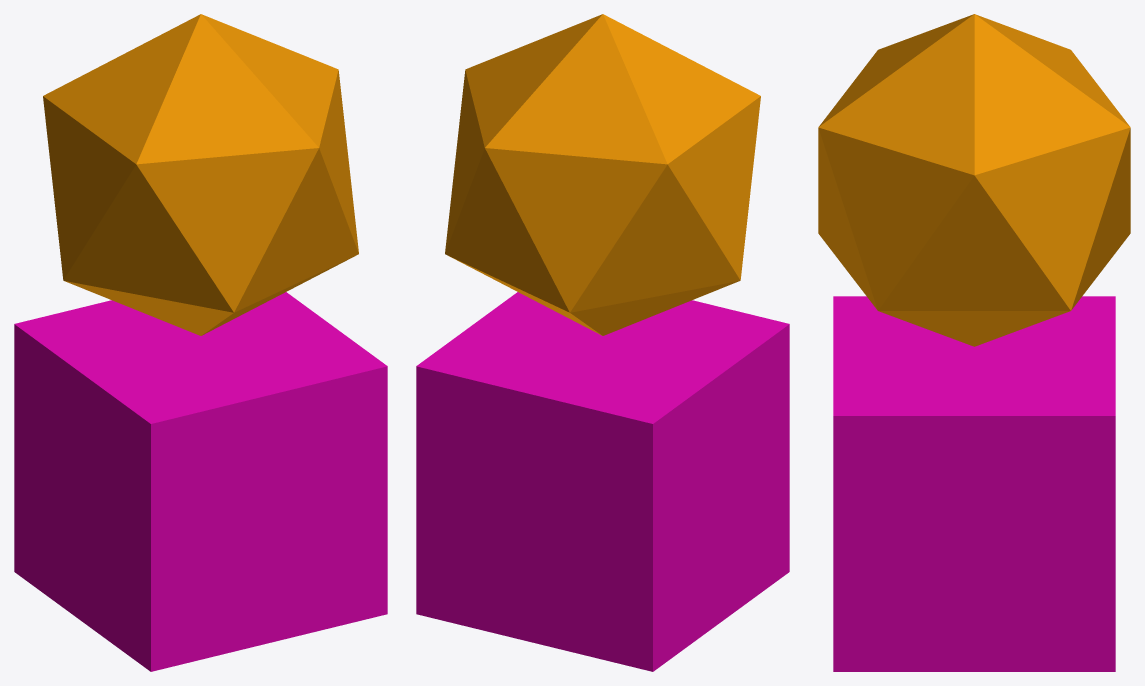
Rendered from vendor.glb.
The picture shows the model from 3 angles, left to right: view 1: azimuth 30°, elevation 25°; view 2: azimuth 150°, elevation 25°; view 3: azimuth 270°, elevation 25°; orthographic projection. The views are drawn at different scales.
Visible parts, largest first — view 1: Cube, Icosphere; view 2: Cube, Icosphere; view 3: Cube, Icosphere.
Part boxes in pixels (bbox=[...]): Cube: bbox=[14, 292, 387, 671]; Icosphere: bbox=[43, 14, 358, 335]; Cube: bbox=[416, 292, 789, 671]; Icosphere: bbox=[445, 14, 760, 335]; Cube: bbox=[833, 296, 1115, 671]; Icosphere: bbox=[818, 14, 1130, 346].
Size of the model in its own units: 2.32 by 4.67 by 2.21.
